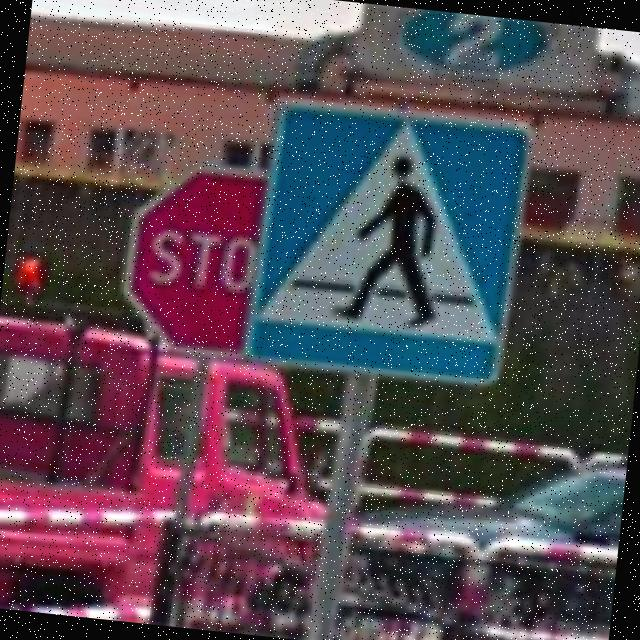Przejscie dla pieszych: (241, 91, 534, 391)
Stop: (115, 158, 272, 360)
